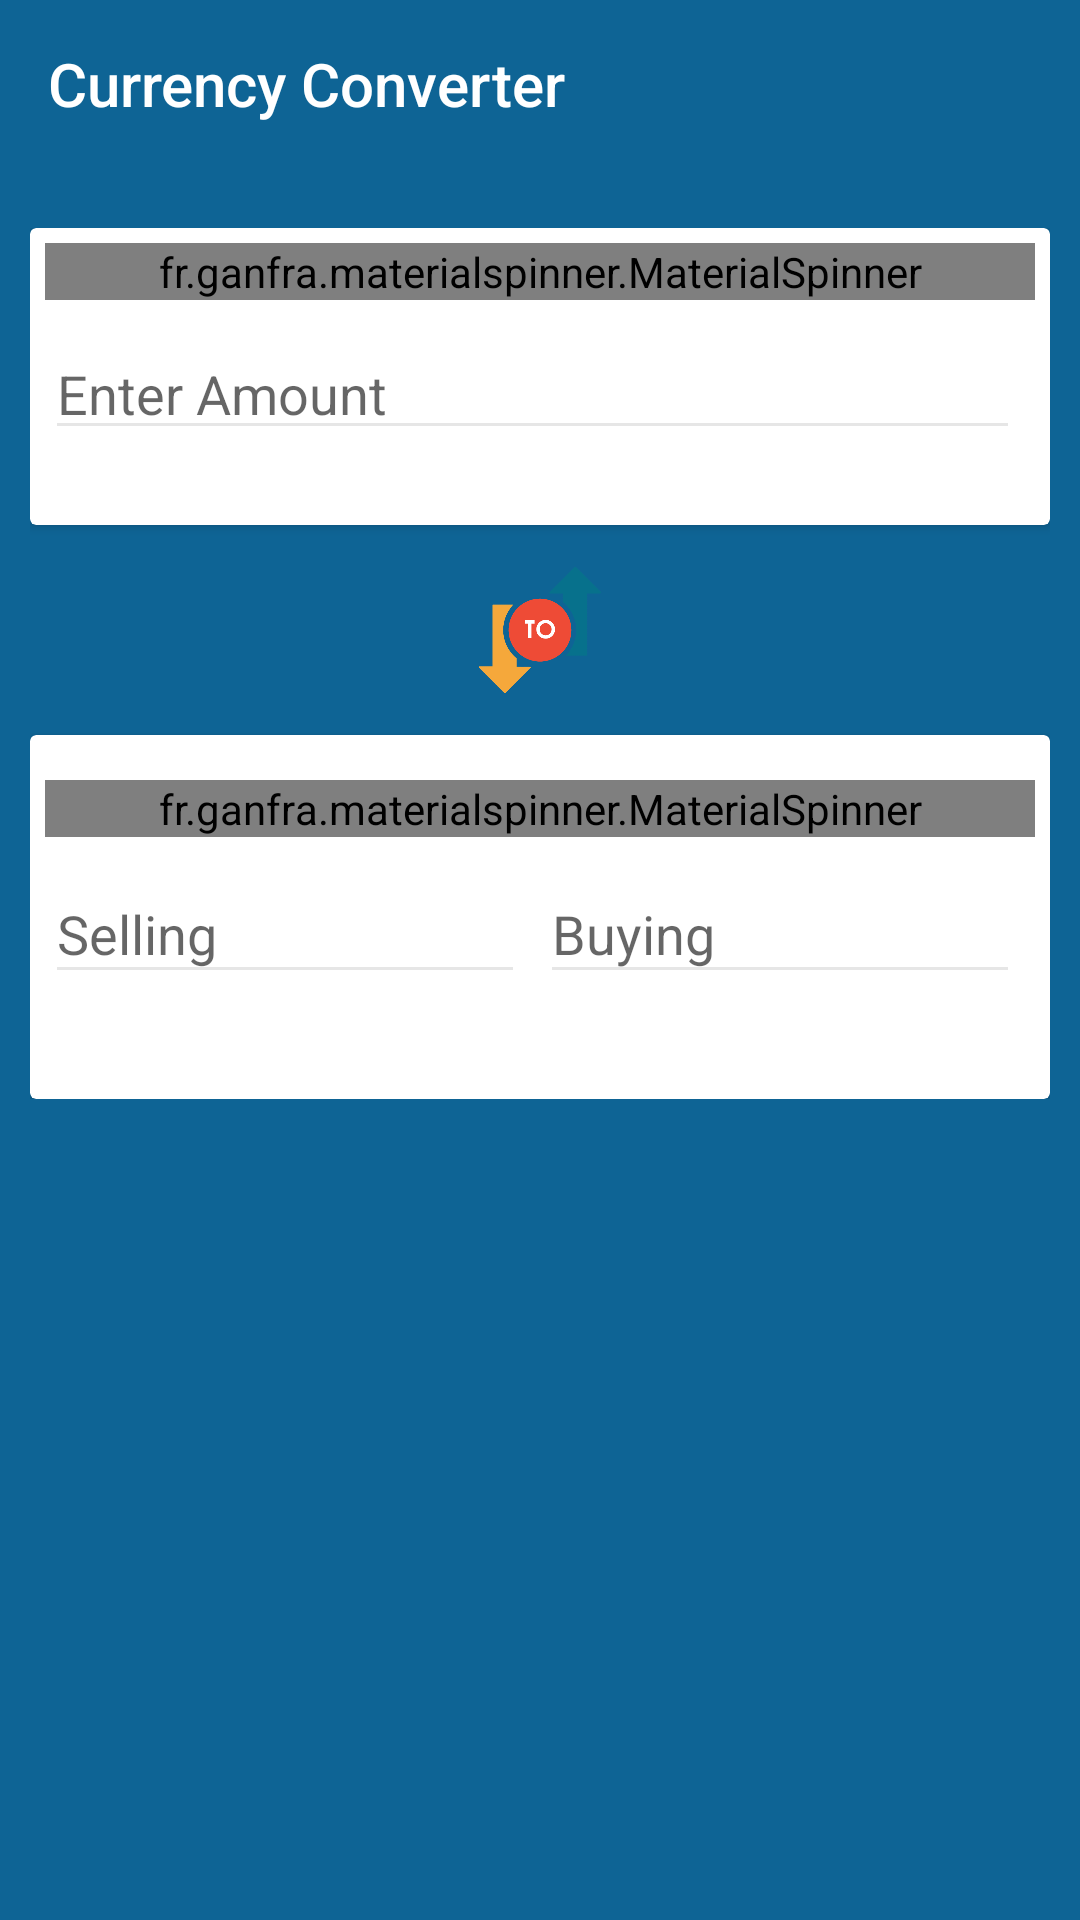

Named icons in this screenshot (1080×1920) and their bounding boxes, (x1, y1, x2, y2):
transfer: (479, 598, 572, 693)
